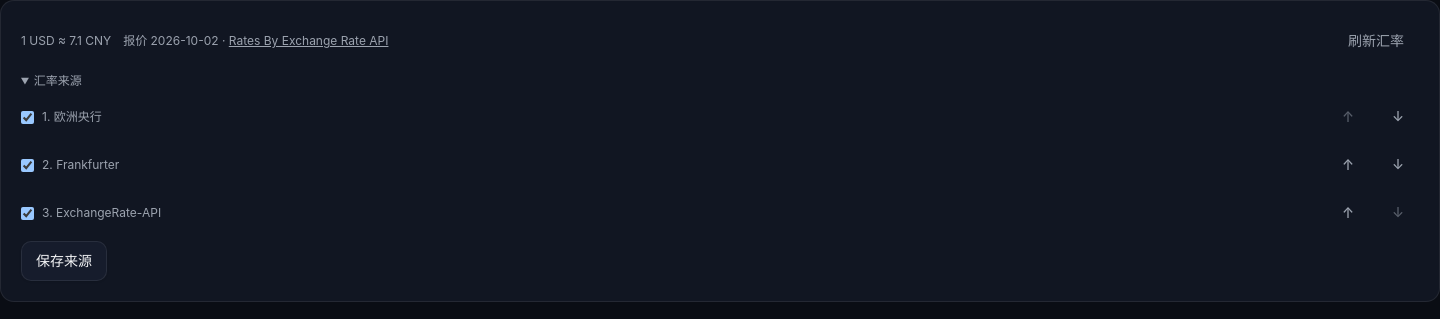
Test: loads folded sources on demand and saves enabled order
Expected: the number of checkboxes is 3, [21, 110, 34, 124]; [21, 158, 34, 172]; [21, 206, 34, 220]
Click the button named "上移 Frankfurter": (1348, 165) [1327, 145, 1369, 185]
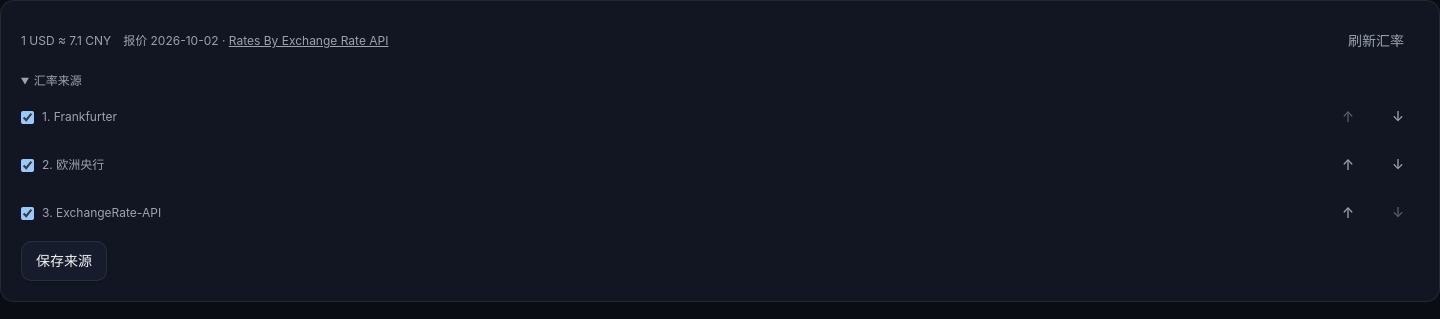
Click the checkbox labelled "3. ExchangeRate-API": (28, 213) [21, 206, 34, 220]
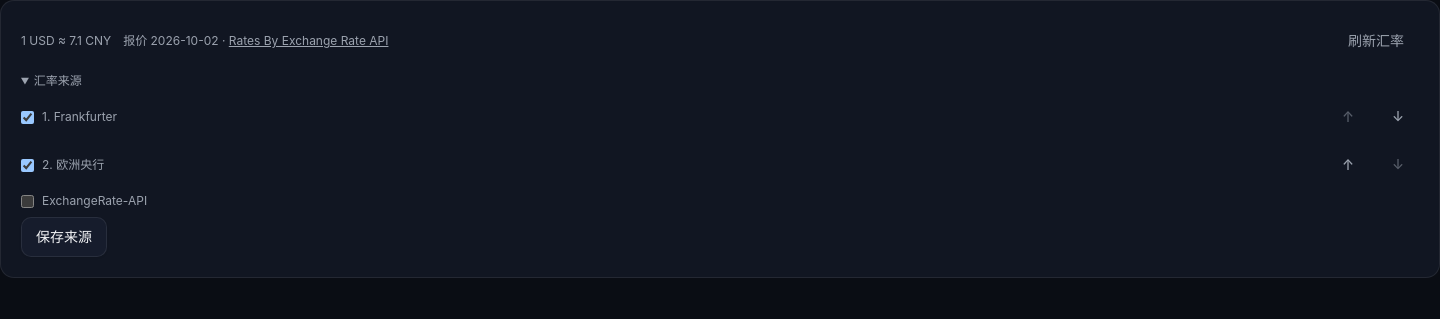
Click the button "保存来源": (64, 237) [21, 217, 107, 257]
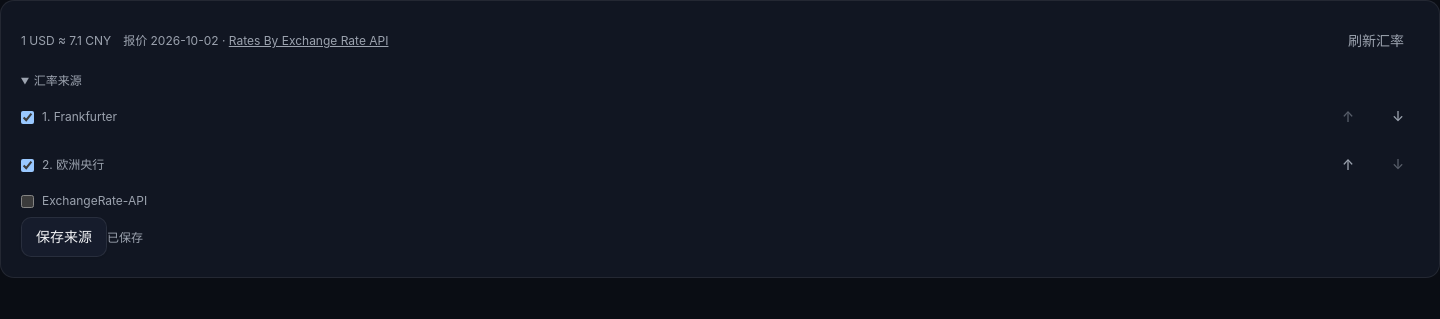
Expected: the text "已保存" is shown, [107, 230, 143, 245]
